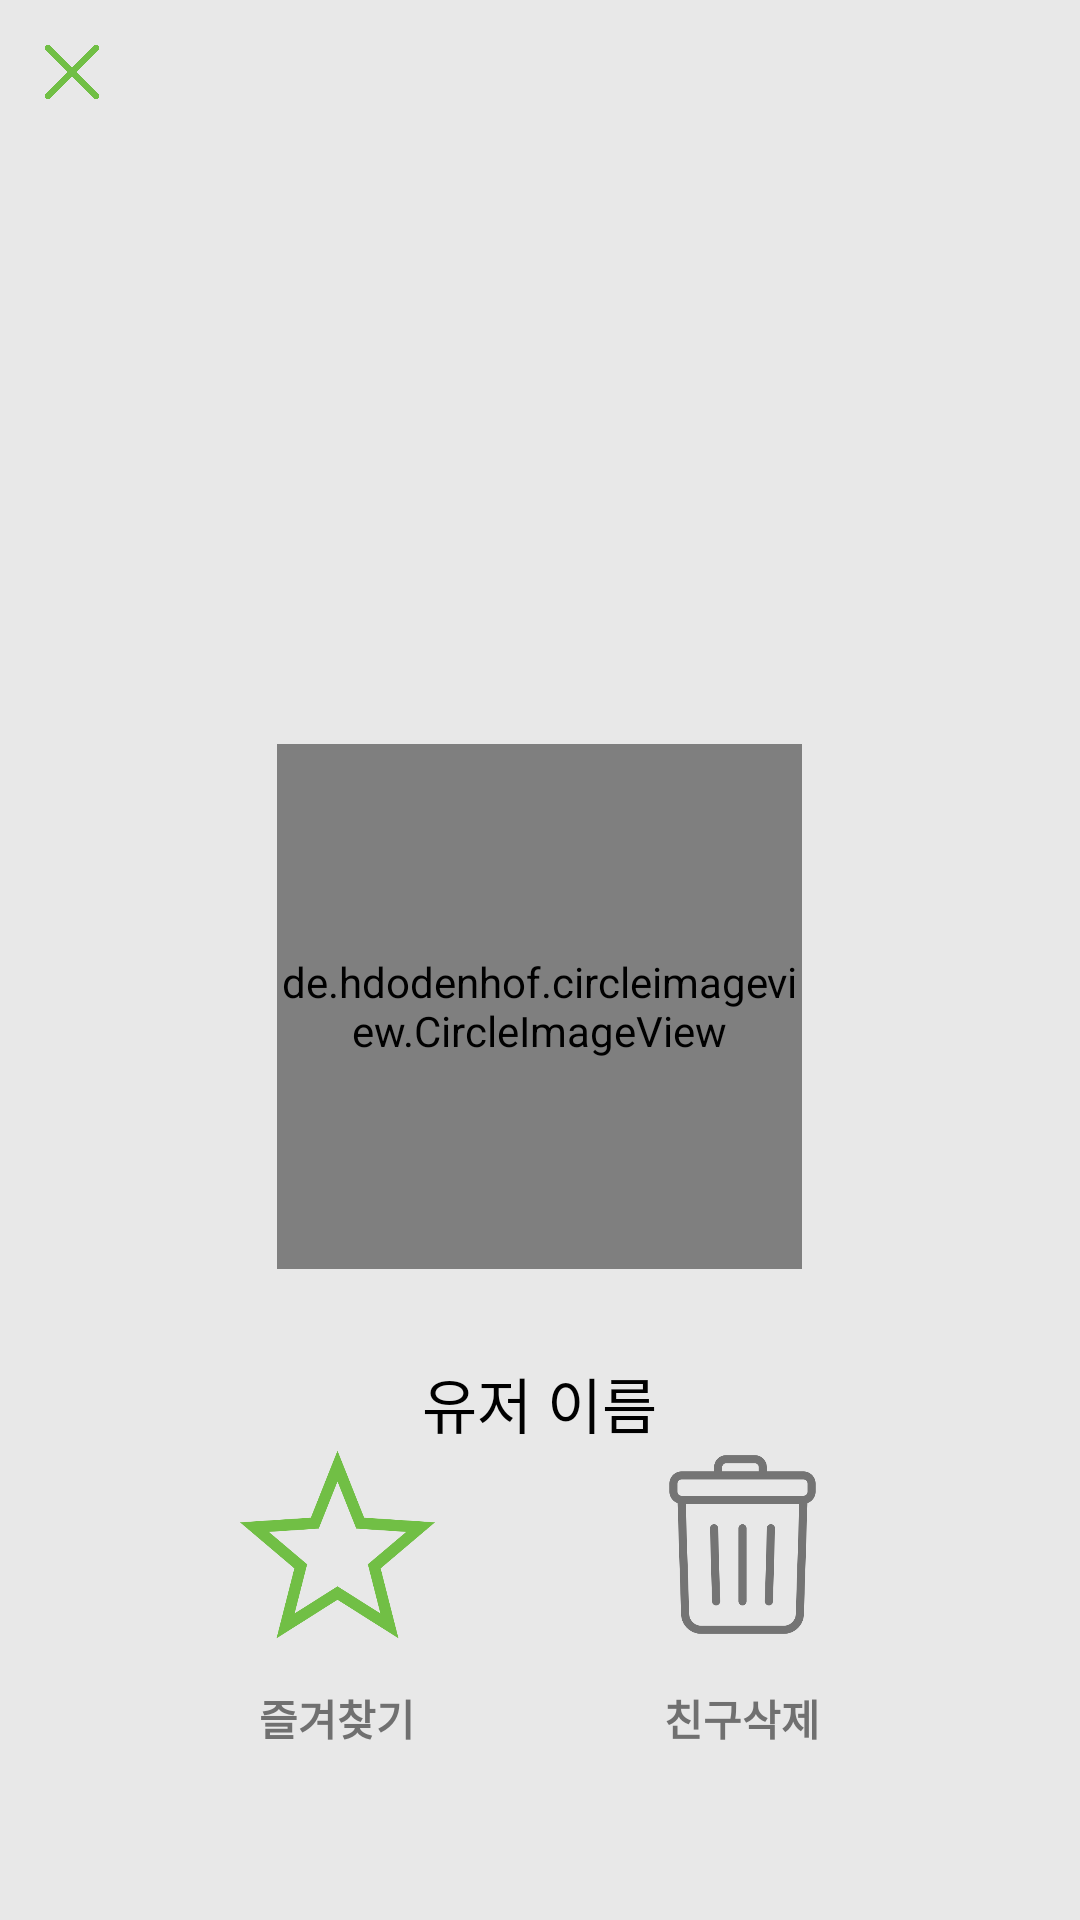

Where to tap for icons on this 1080 × 1920 app screen, as (x=x, y=y):
empty star: (x=337, y=1544)
recycle bin: (x=742, y=1544)
